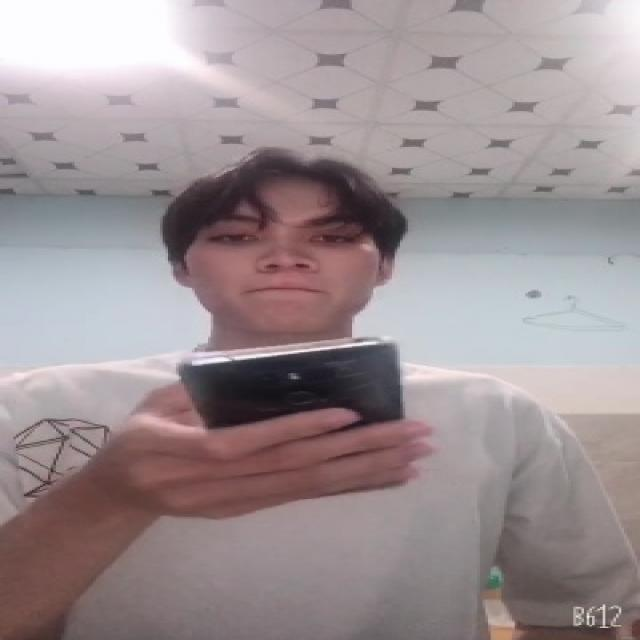Phone: (177, 334, 415, 490)
